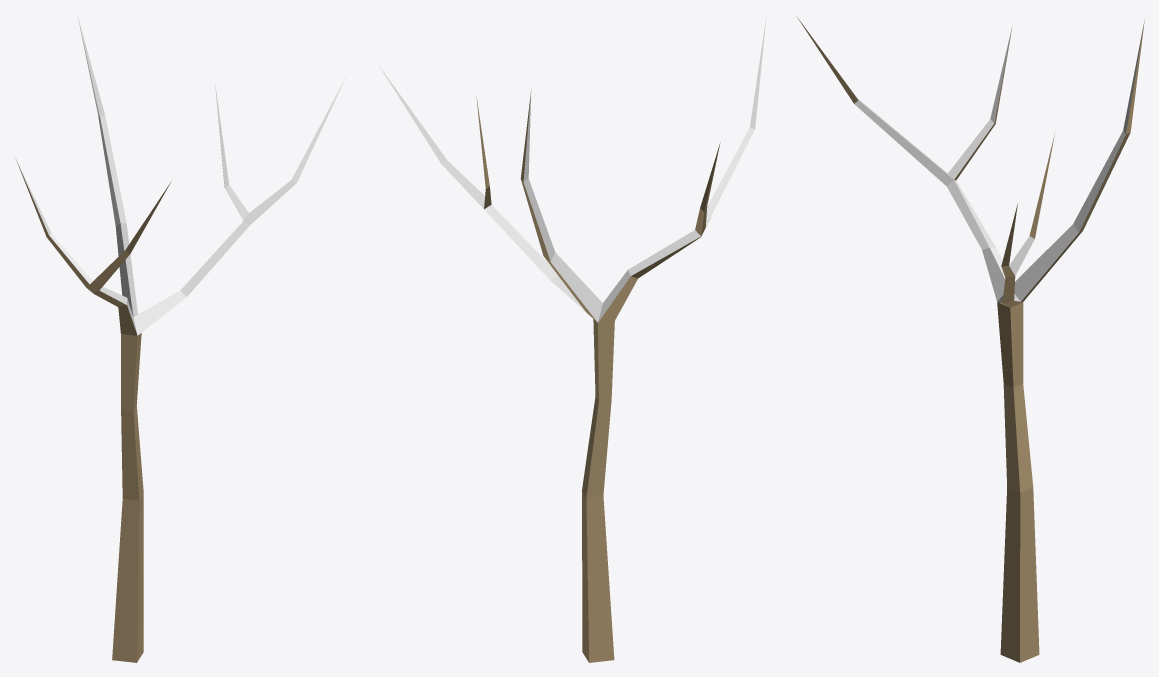
File: Apple_Tree_NoLeaves_s_Snow_BT_02.fbx
3 renders of one model, left to right at view 1: azimuth 30°, elevation 25°; view 2: azimuth 150°, elevation 25°; view 3: azimuth 270°, elevation 25°, orthographic. The views are drawn at different scales.
Parts seen in each view (by area): view 1: Apple_Tree_NoLeaves_s_Snow_BT_02; view 2: Apple_Tree_NoLeaves_s_Snow_BT_02; view 3: Apple_Tree_NoLeaves_s_Snow_BT_02.
Boxes of the visible parts, x1=… form: Apple_Tree_NoLeaves_s_Snow_BT_02: x1=15, y1=16, x2=346, y2=662; Apple_Tree_NoLeaves_s_Snow_BT_02: x1=377, y1=15, x2=766, y2=662; Apple_Tree_NoLeaves_s_Snow_BT_02: x1=796, y1=16, x2=1144, y2=662.
Size of the model in its own units: 128 by 218 by 108.
